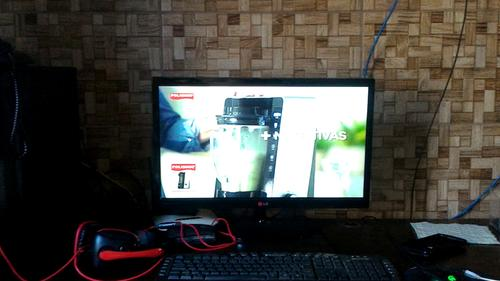Polishop #1: (164, 159, 200, 196)
